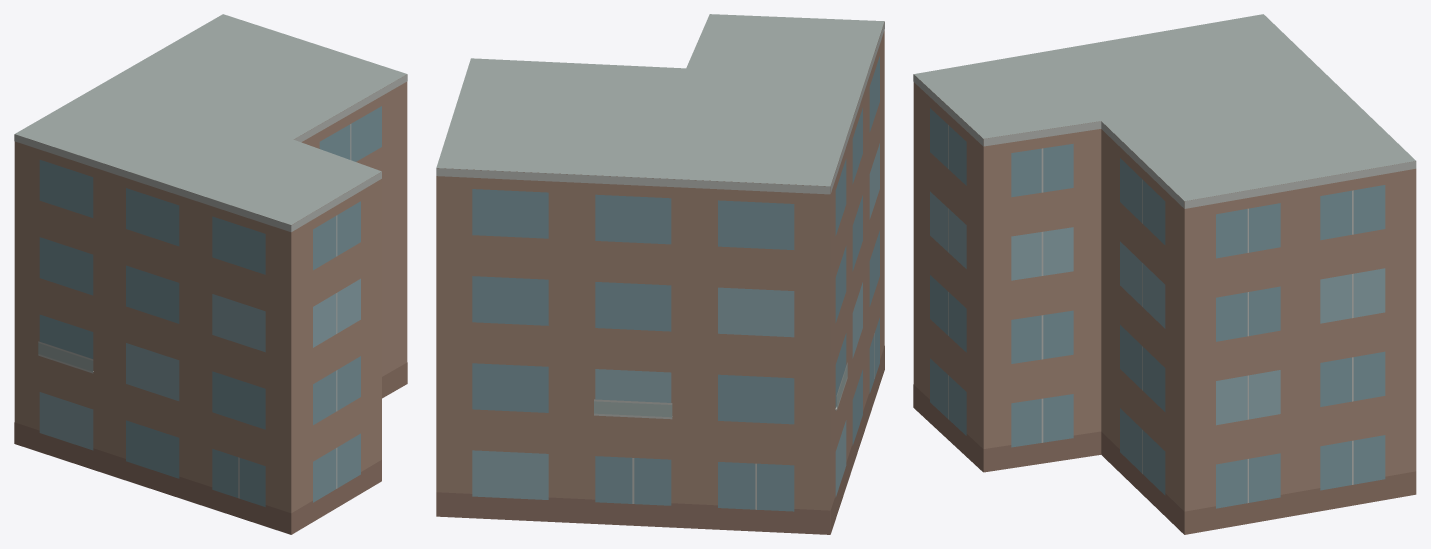
File: survey-upis-32584854.glb
The picture shows the model from 3 angles, left to right: view 1: azimuth 30°, elevation 25°; view 2: azimuth 150°, elevation 25°; view 3: azimuth 270°, elevation 25°; orthographic projection. The views are drawn at different scales.
Parts seen in each view (by area): view 1: survey-upis-32584854.tmp; view 2: survey-upis-32584854.tmp; view 3: survey-upis-32584854.tmp.
Part boxes in pixels (bbox=[...]): survey-upis-32584854.tmp: bbox=[14, 14, 407, 534]; survey-upis-32584854.tmp: bbox=[436, 14, 884, 534]; survey-upis-32584854.tmp: bbox=[913, 14, 1416, 534].
Size of the model in its own units: 12.65 by 10.5 by 14.35.
